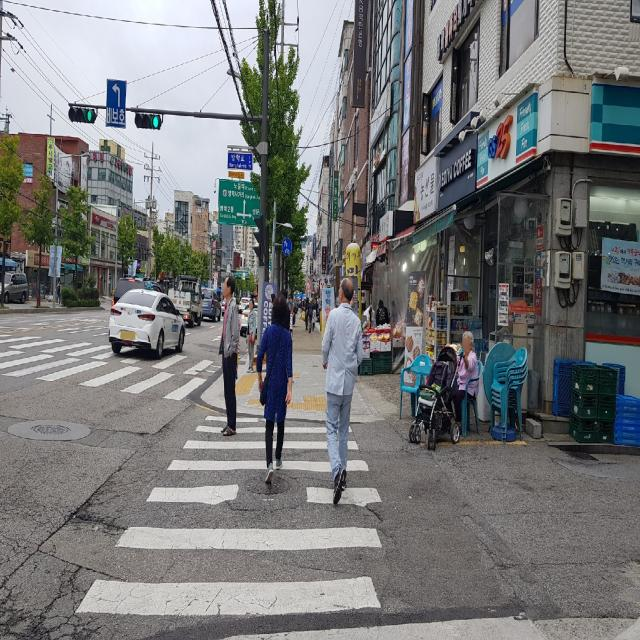횡단보도: (76, 416, 386, 619), (0, 333, 219, 402)
